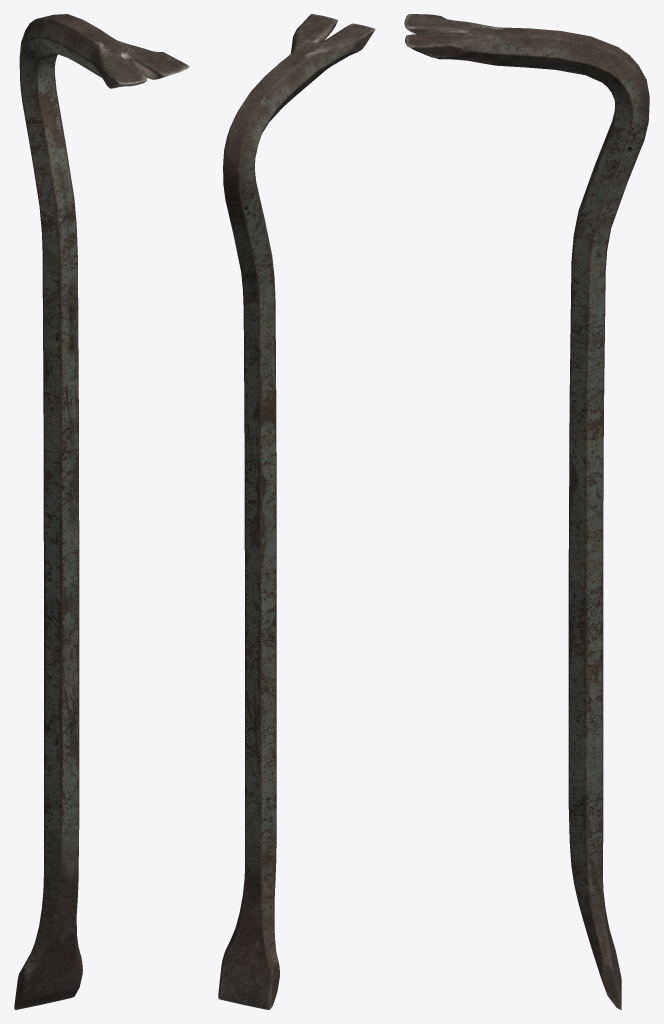
Rendered from crowbar.glb.
3 views of the same model, side by side, from view 1: azimuth 30°, elevation 25°; view 2: azimuth 150°, elevation 25°; view 3: azimuth 270°, elevation 25° (orthographic). The views are drawn at different scales.
Parts seen in each view (by area): view 1: crowbar_01; view 2: crowbar_01; view 3: crowbar_01.
Boxes of the visible parts, left/top/right/bottom form: crowbar_01: left=14, top=14, right=189, bottom=1009; crowbar_01: left=218, top=14, right=375, bottom=1009; crowbar_01: left=404, top=14, right=649, bottom=1009.
Size of the model in its own units: 0.0404 by 0.5554 by 0.1276.
1 material, 1 textured.
